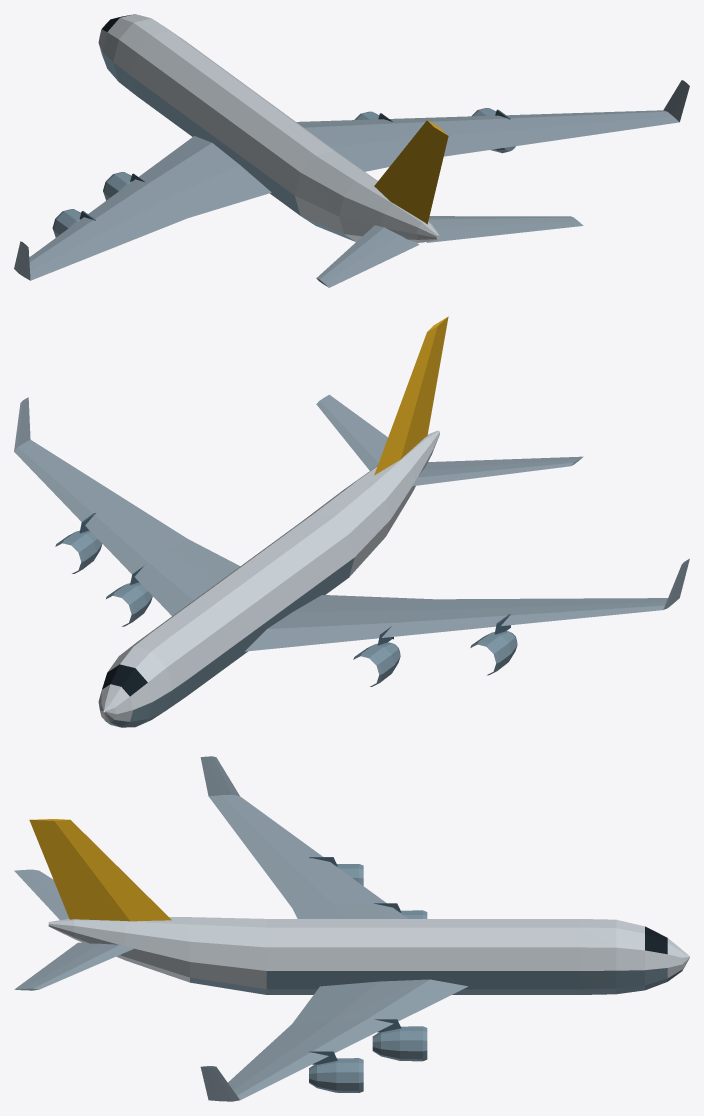
The picture shows the model from 3 angles, top to bottom: view 1: azimuth 30°, elevation 25°; view 2: azimuth 150°, elevation 25°; view 3: azimuth 270°, elevation 25°; orthographic projection. The views are drawn at different scales.
Parts seen in each view (by area): view 1: lod0; view 2: lod0; view 3: lod0.
Part boxes in pixels (<box>): lod0: <box>14,14,689,287</box>; lod0: <box>14,316,689,727</box>; lod0: <box>14,756,689,1101</box>.
Size of what is drawn, in the model's own units: 1.08 by 0.2958 by 1.
